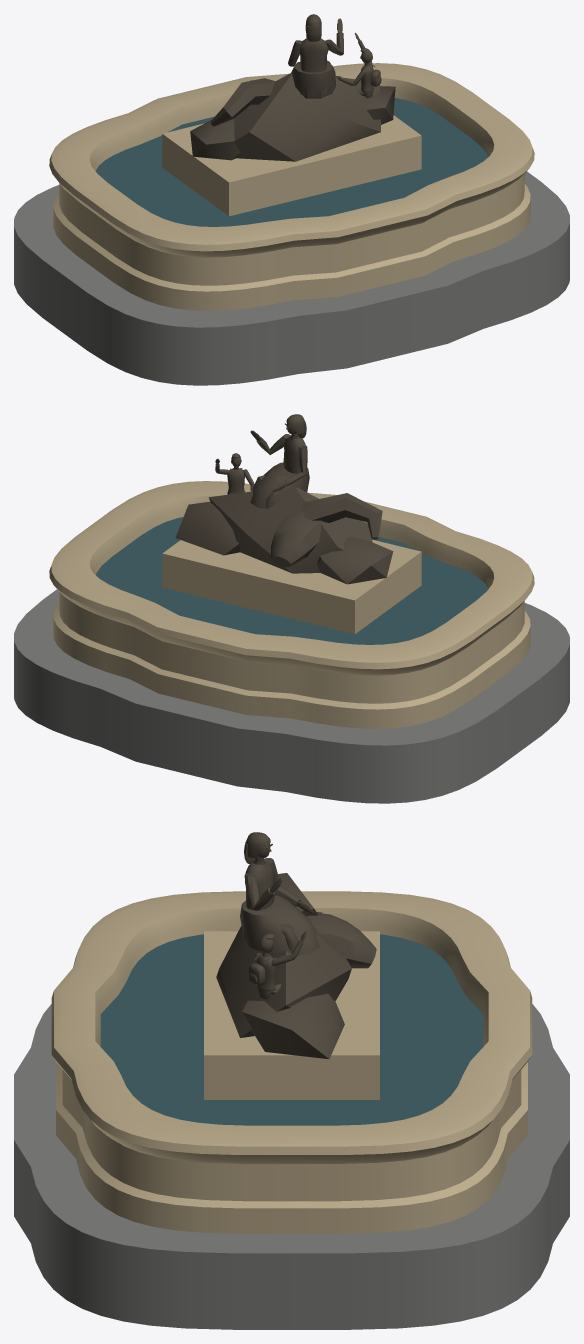
Rendered from mon_nymphenbrunnen.glb.
3 views of the same model, one above another, from view 1: azimuth 30°, elevation 25°; view 2: azimuth 150°, elevation 25°; view 3: azimuth 270°, elevation 25° (orthographic). The views are drawn at different scales.
Visible parts, largest first — view 1: mon_nymphenbrunnen; view 2: mon_nymphenbrunnen; view 3: mon_nymphenbrunnen.
Part boxes in pixels (x1,y1,x2,y2): mon_nymphenbrunnen: (14, 14, 569, 385); mon_nymphenbrunnen: (14, 414, 569, 803); mon_nymphenbrunnen: (14, 832, 569, 1329).
Size of the model in its own units: 5.89 by 3.35 by 4.74.
